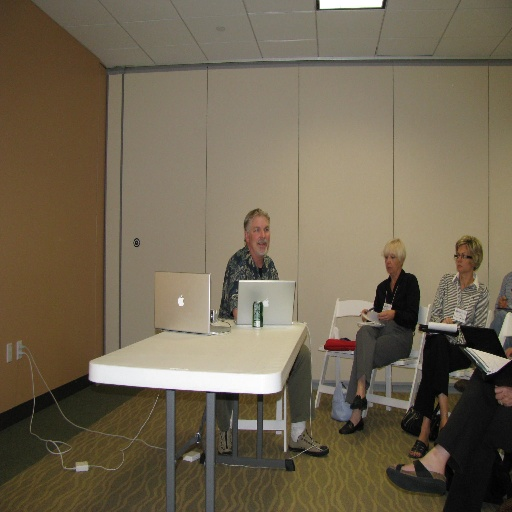hand: (494, 386, 511, 409), (376, 309, 394, 320), (359, 308, 370, 322), (499, 295, 508, 308), (442, 317, 454, 323), (505, 347, 511, 357)
